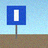sign: (7, 6, 26, 39)
